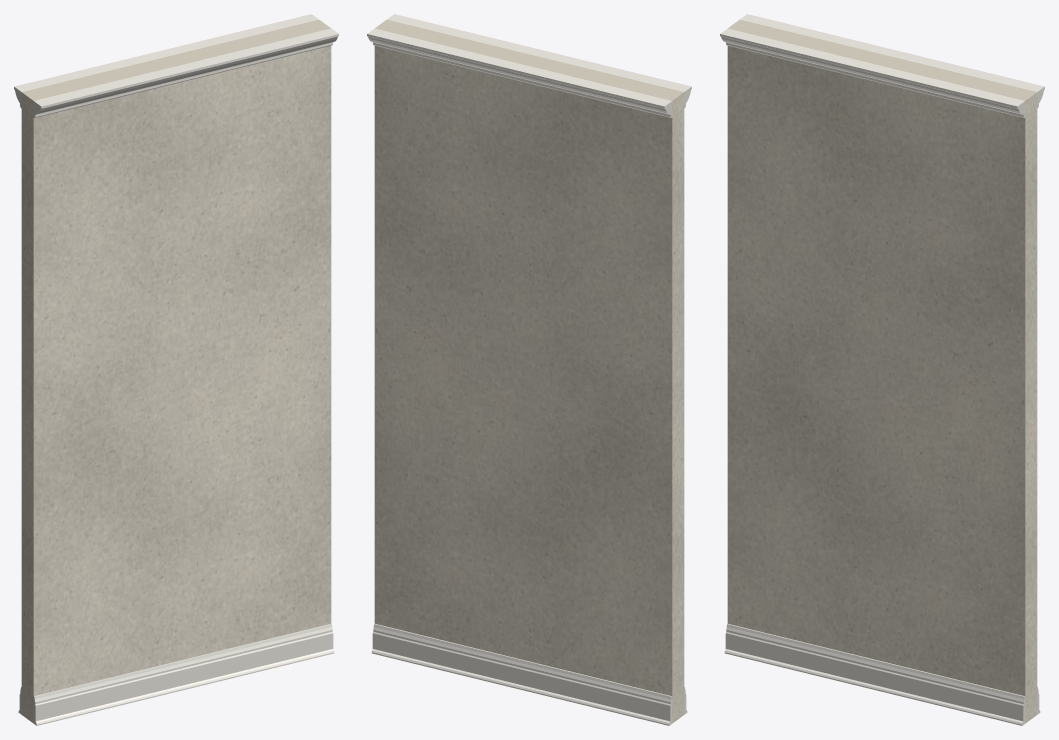
Rendered from interior_wall_end.glb.
3 views of the same model, side by side, from view 1: azimuth 30°, elevation 25°; view 2: azimuth 150°, elevation 25°; view 3: azimuth 330°, elevation 25° (orthographic).
Parts seen in each view (by area): view 1: interior_wall_end_plaster, molduras; view 2: interior_wall_end_plaster, molduras; view 3: interior_wall_end_plaster, molduras.
Part boxes in pixels (x1,y1,x2,y2): interior_wall_end_plaster: (21,19,331,723); molduras: (14,14,338,725); interior_wall_end_plaster: (374,19,684,723); molduras: (367,14,691,725); interior_wall_end_plaster: (727,19,1037,723); molduras: (720,14,1044,725).
Bounding box in the file's own units: 1.7 × 3.4 × 0.27.
Materials: 2 (1 with a texture image).
